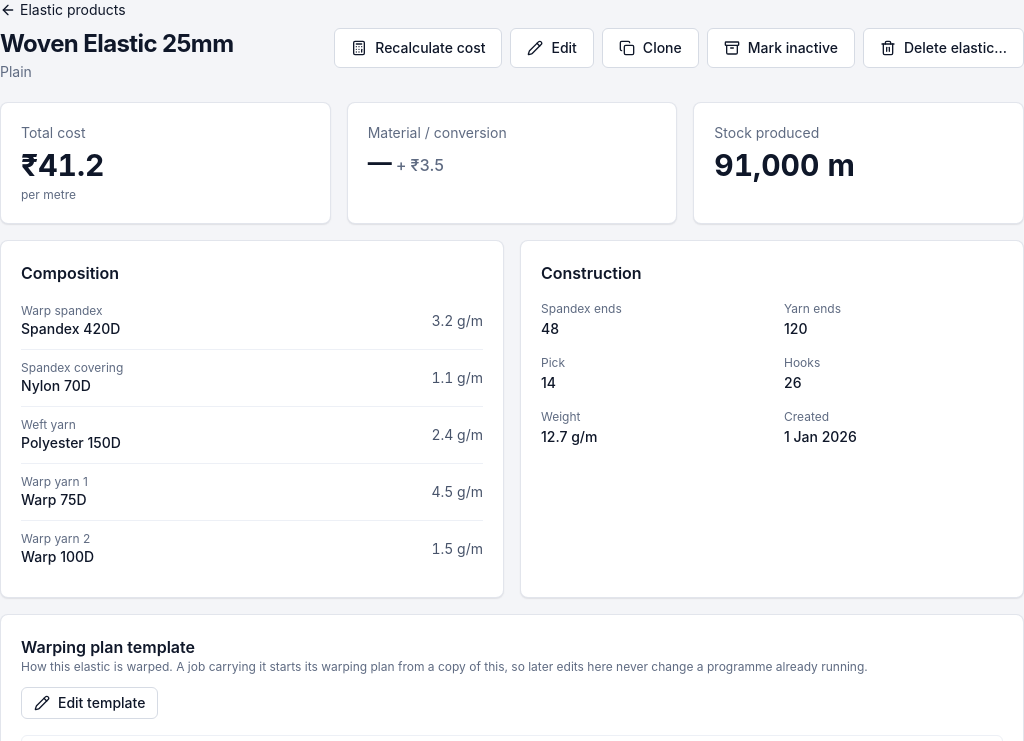
Test: cloning from the detail page › opens a form named after the source, with an empty name and the spec filled
The width and height of the screenshot is (1024, 741).
Click the button "Clone" at (650, 48), box [602,28,699,68]
(page scrolled)
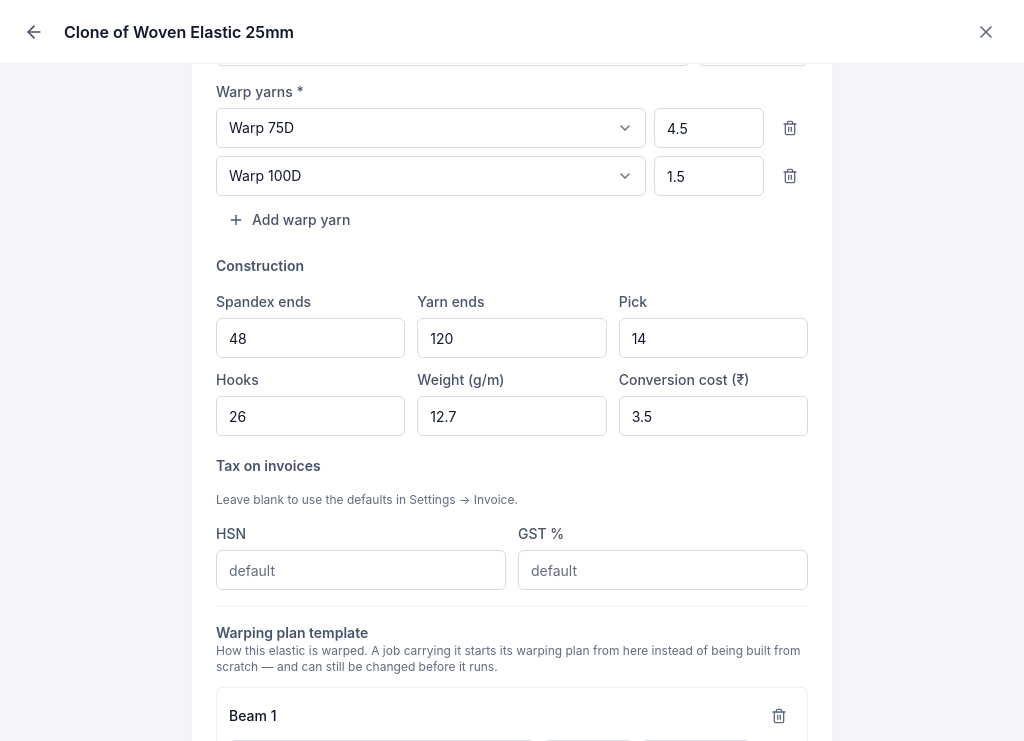
Expected: the heading "Clone of Woven Elastic 25mm" is shown, [64,20,294,44]
Expected: the number field labelled "Pick" holds "14", [619,318,808,358]
Expected: the number field labelled "Hooks" holds "26", [216,396,405,436]
